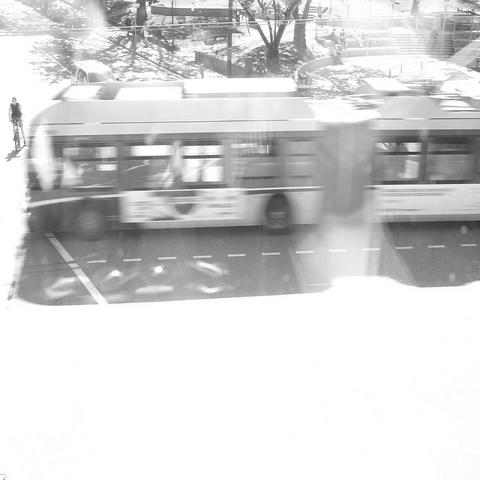bus: (19, 74, 373, 241), (369, 104, 479, 228)
car: (70, 59, 117, 84)
